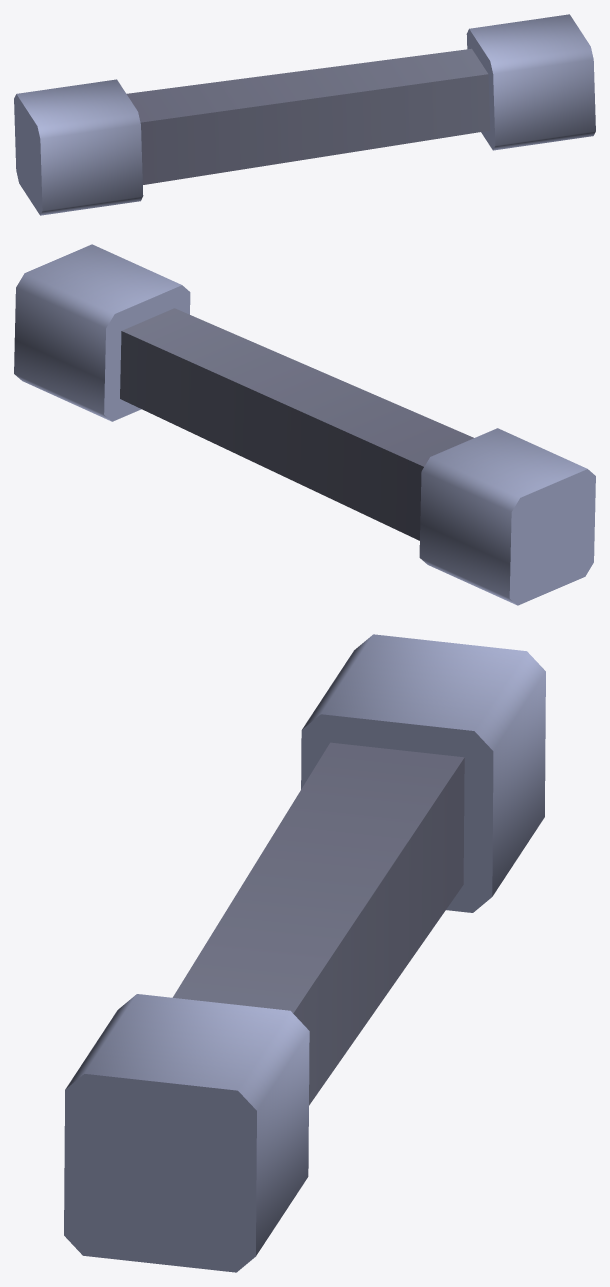
File: column.001_lev4.glb
3 views of the same model, one above another, from view 1: azimuth 30°, elevation 25°; view 2: azimuth 150°, elevation 25°; view 3: azimuth 270°, elevation 25° (orthographic). The views are drawn at different scales.
Visible parts, largest first — view 1: column.001_lev4; view 2: column.001_lev4; view 3: column.001_lev4.
Part boxes in pixels (<box>): column.001_lev4: <box>14,14,595,215</box>; column.001_lev4: <box>14,244,595,605</box>; column.001_lev4: <box>64,634,545,1272</box>.
Bounding box in the file's own units: 10.12 × 2.01 × 4.19.
1 material, 1 textured.
